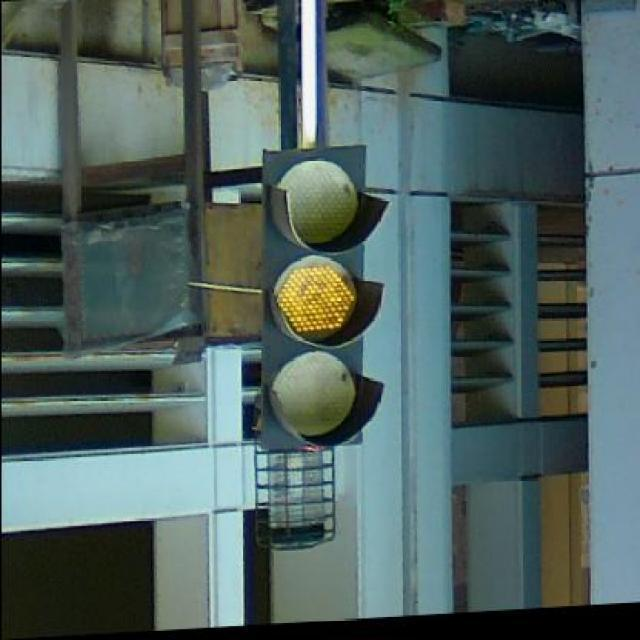yellow_light: (261, 146, 388, 445)
